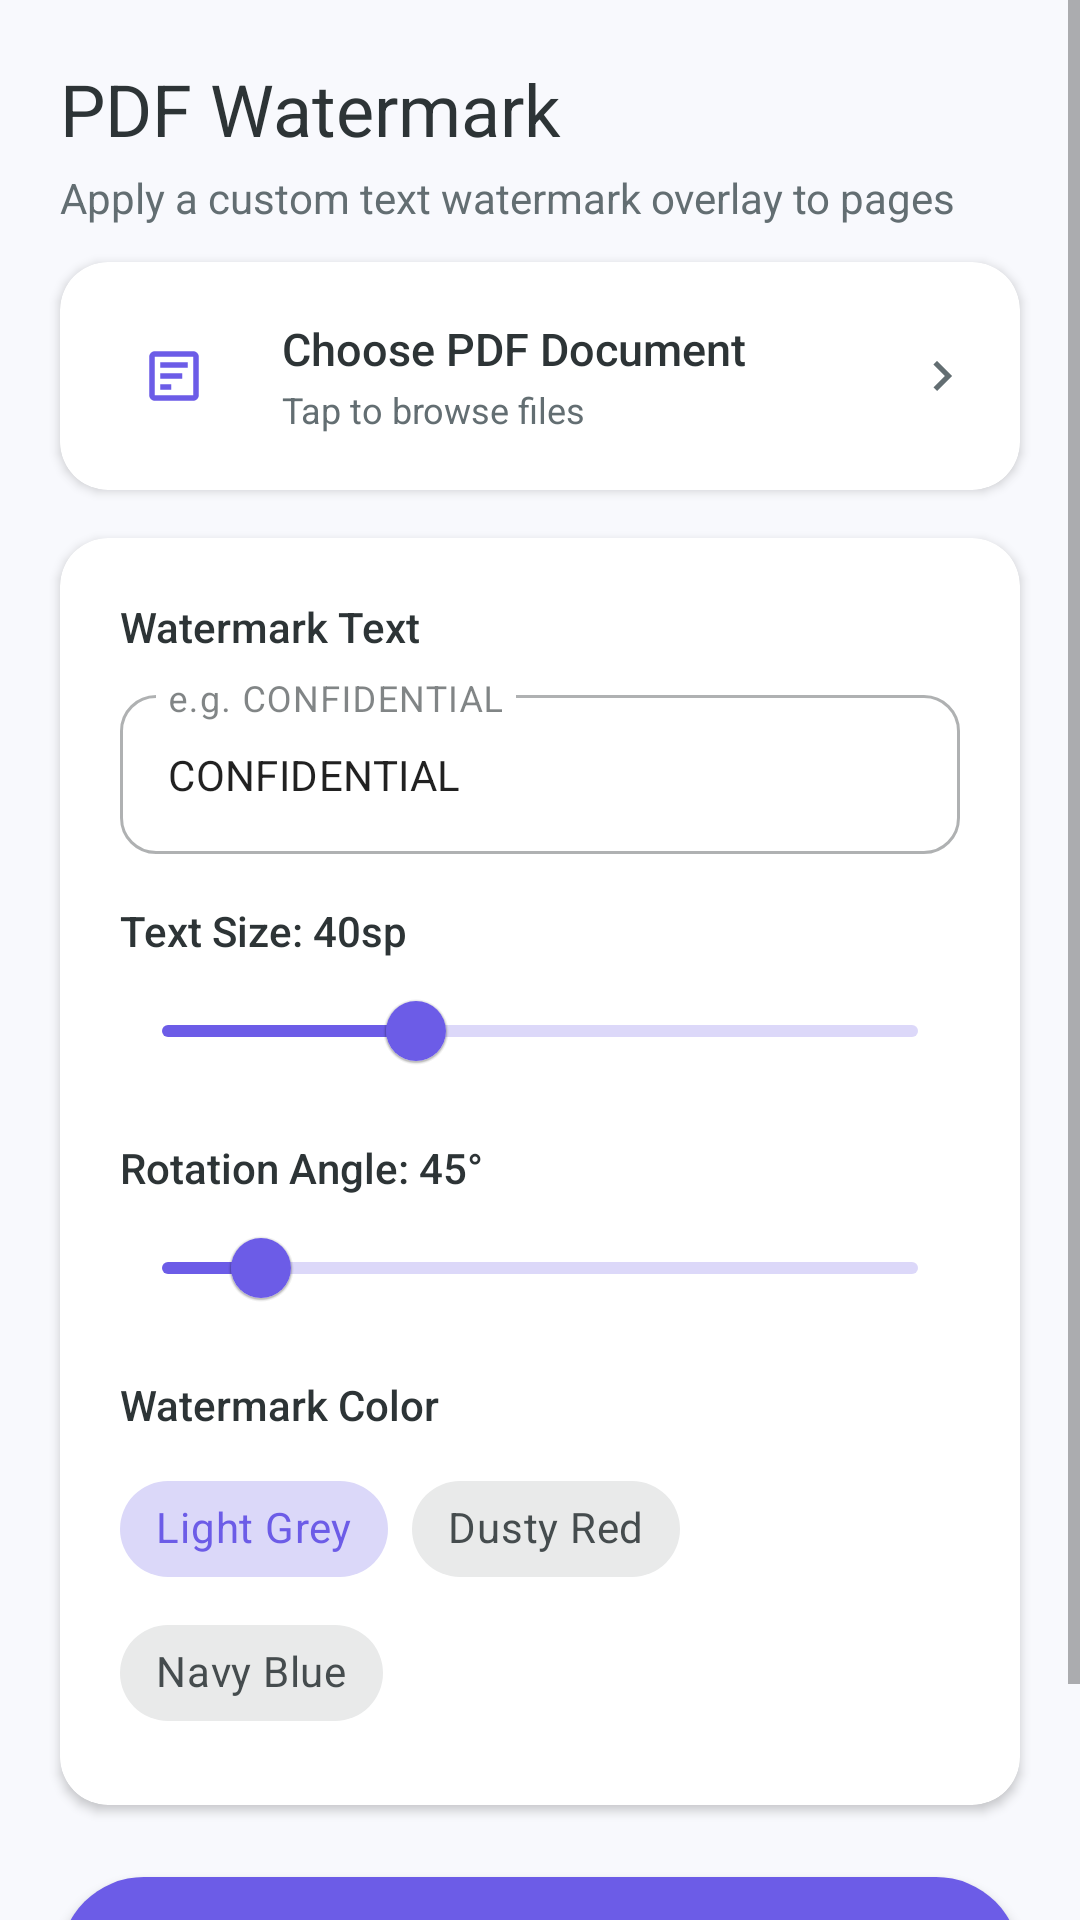

Where icons sit on this 1080px x 1920px app screen, as box=[x1, y1, x2, y2]:
chevron right: box=[933, 361, 952, 391]
